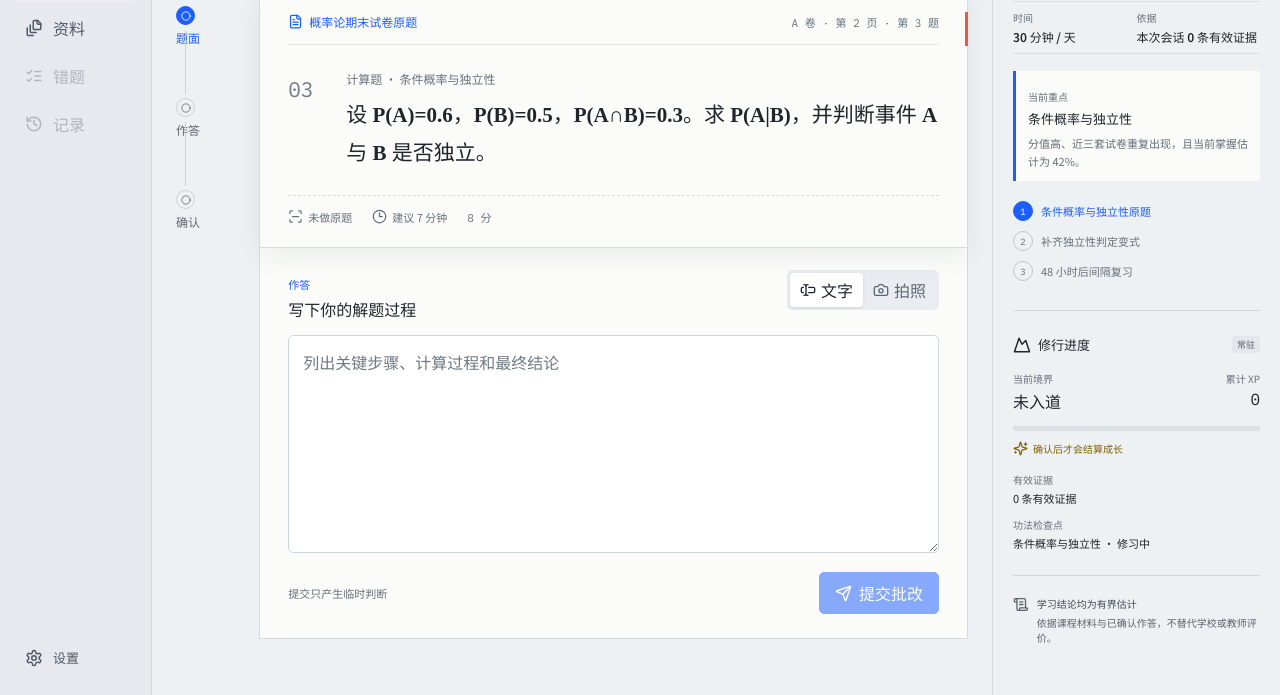
Test: StudyPage › uses the selected course rubric in diagnosis
(page scrolled)
Type "P(A|B)=0.6" into the text box named "文字答案" at (614, 444), box [288,335,939,553]
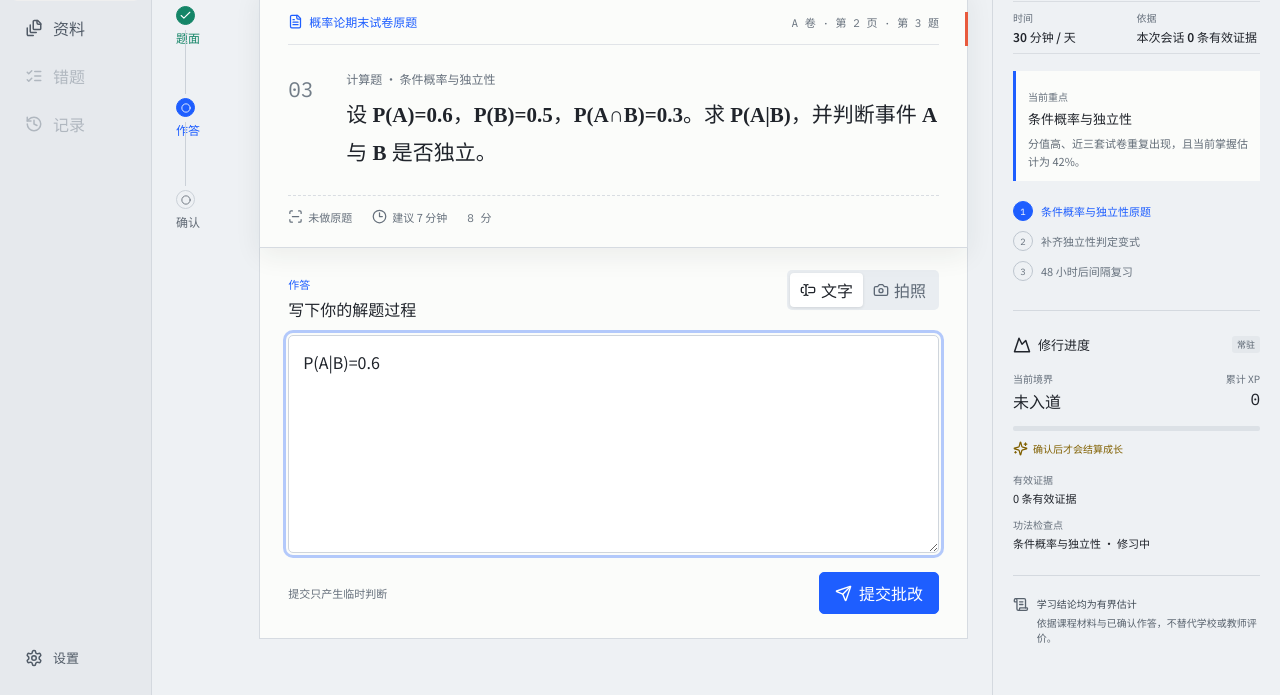
Click the button "提交批改" at (879, 593), box [819,572,939,614]
(page scrolled)
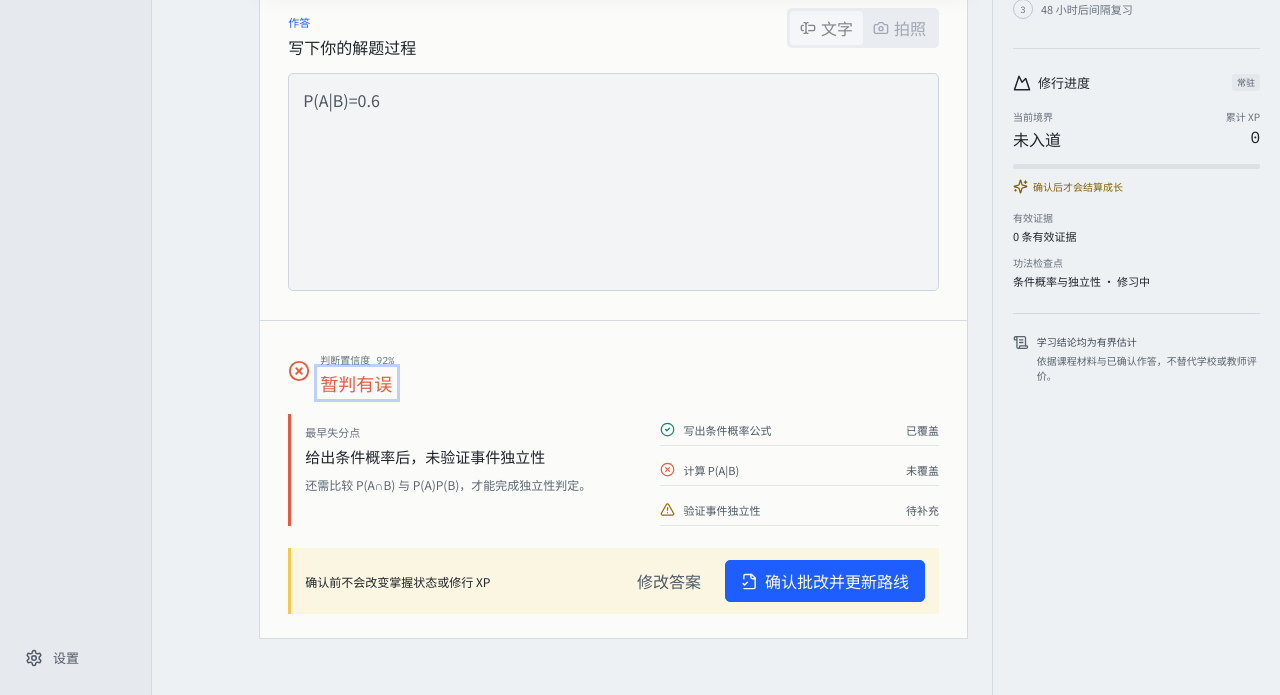
Now the text "给出条件概率后，未验证事件独立性" is shown, box [305,446,545,467]
